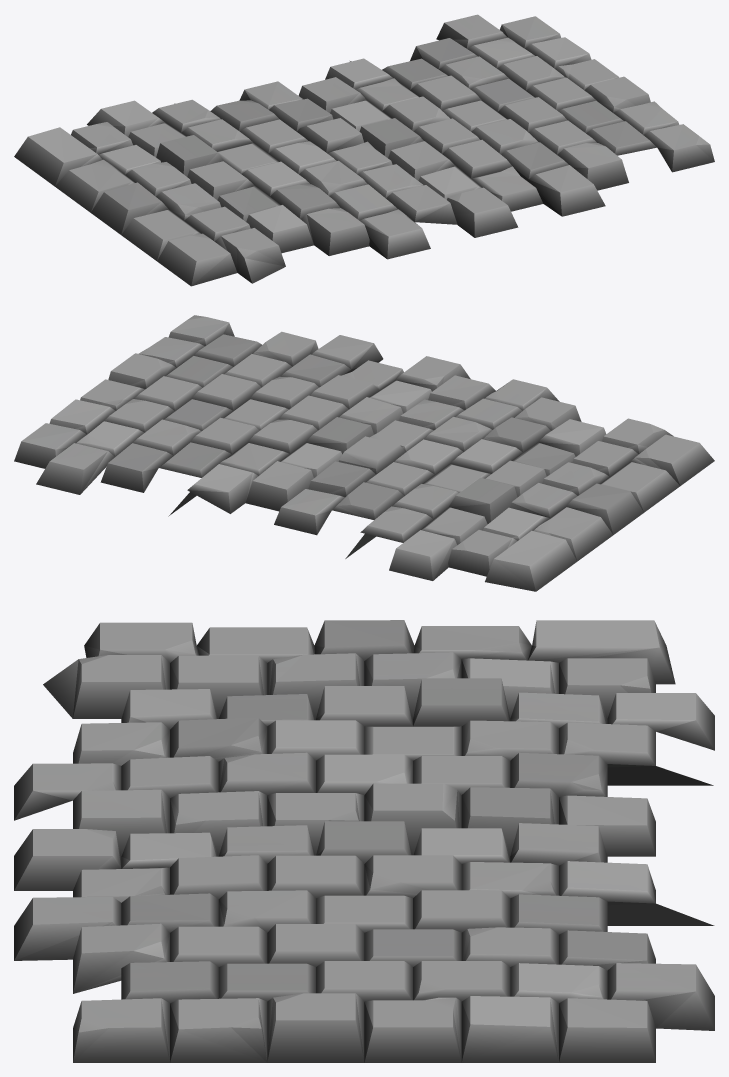
The model's file is cobbledstreet2.glb.
The picture shows the model from 3 angles, top to bottom: view 1: azimuth 30°, elevation 25°; view 2: azimuth 150°, elevation 25°; view 3: azimuth 270°, elevation 25°; orthographic projection. The views are drawn at different scales.
Visible parts, largest first — view 1: CobbledStreet2_mesh1; view 2: CobbledStreet2_mesh1; view 3: CobbledStreet2_mesh1.
Boxes of the visible parts, box(x1,y1,x2,y2) form: CobbledStreet2_mesh1: box(14, 14, 714, 286); CobbledStreet2_mesh1: box(14, 315, 714, 591); CobbledStreet2_mesh1: box(14, 620, 714, 1062).
Bounding box in the file's own units: 8.51 × 0.4218 × 6.04.
Materials: 1 (1 with a texture image).
